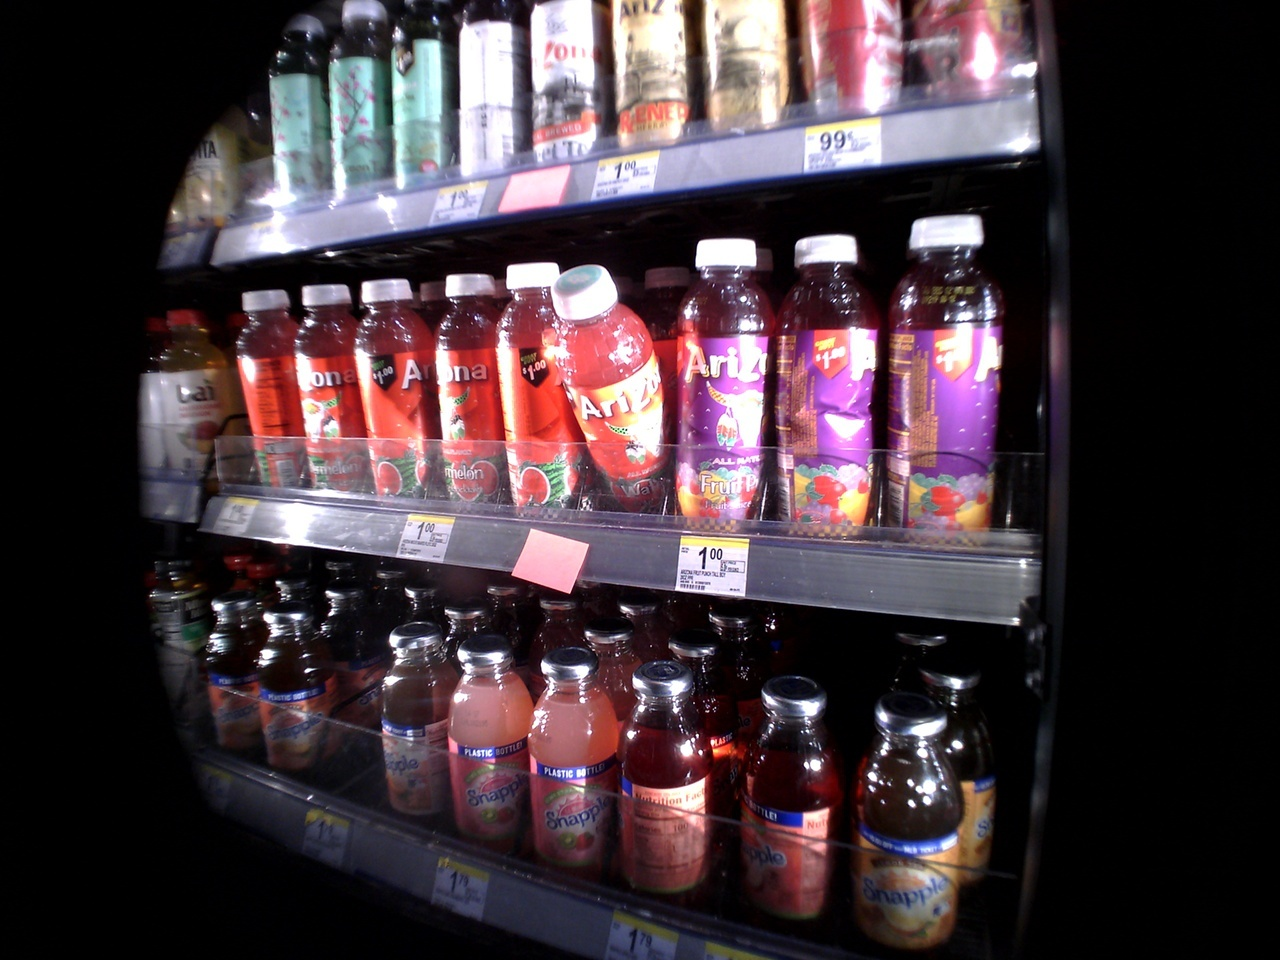shelf: (142, 554, 1025, 928), (211, 200, 1036, 593), (203, 1, 1045, 219)
